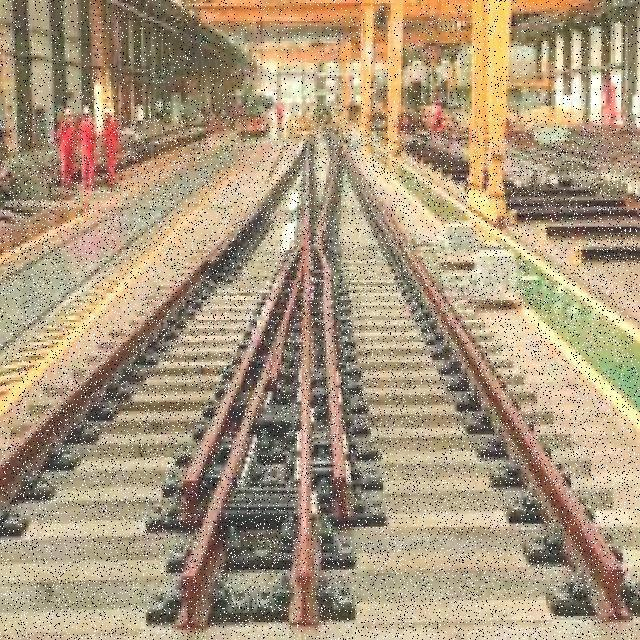rail: (2, 116, 638, 640)
